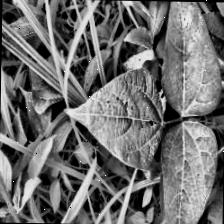ALS: (65, 68, 163, 168), (161, 1, 222, 116)
